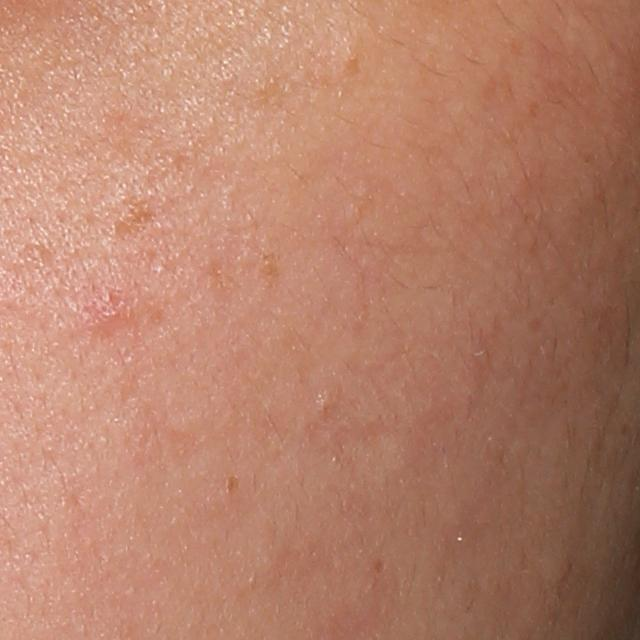comedo: (315, 390, 335, 413)
